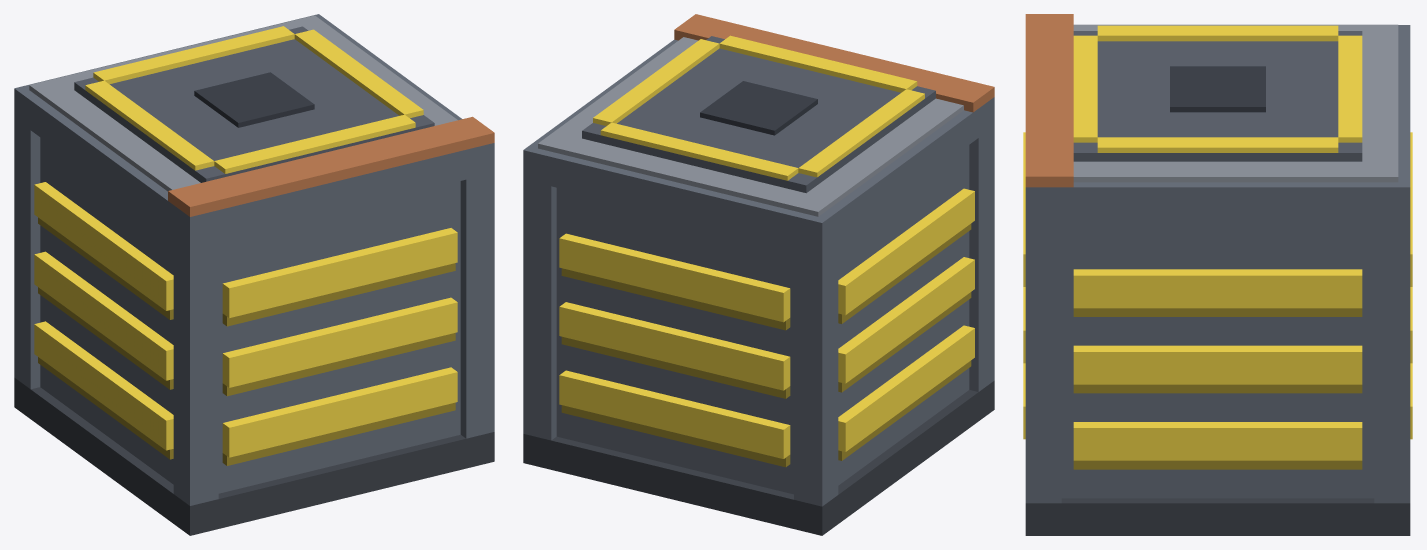
File: charger.glb
3 renders of one model, left to right at view 1: azimuth 30°, elevation 25°; view 2: azimuth 150°, elevation 25°; view 3: azimuth 270°, elevation 25°, orthographic. The views are drawn at different scales.
Parts seen in each view (by area): view 1: body.014, tier.006; view 2: body.014, tier.006; view 3: body.014, tier.006.
Part boxes in pixels (left/top/right/bottom): body.014: left=14, top=14, right=494, bottom=535; tier.006: left=168, top=116, right=494, bottom=216; body.014: left=523, top=35, right=994, bottom=535; tier.006: left=674, top=14, right=994, bottom=112; body.014: left=1023, top=24, right=1412, bottom=535; tier.006: left=1025, top=14, right=1073, bottom=187.
Size of the model in its own units: 1.01 by 1.06 by 1.01.
